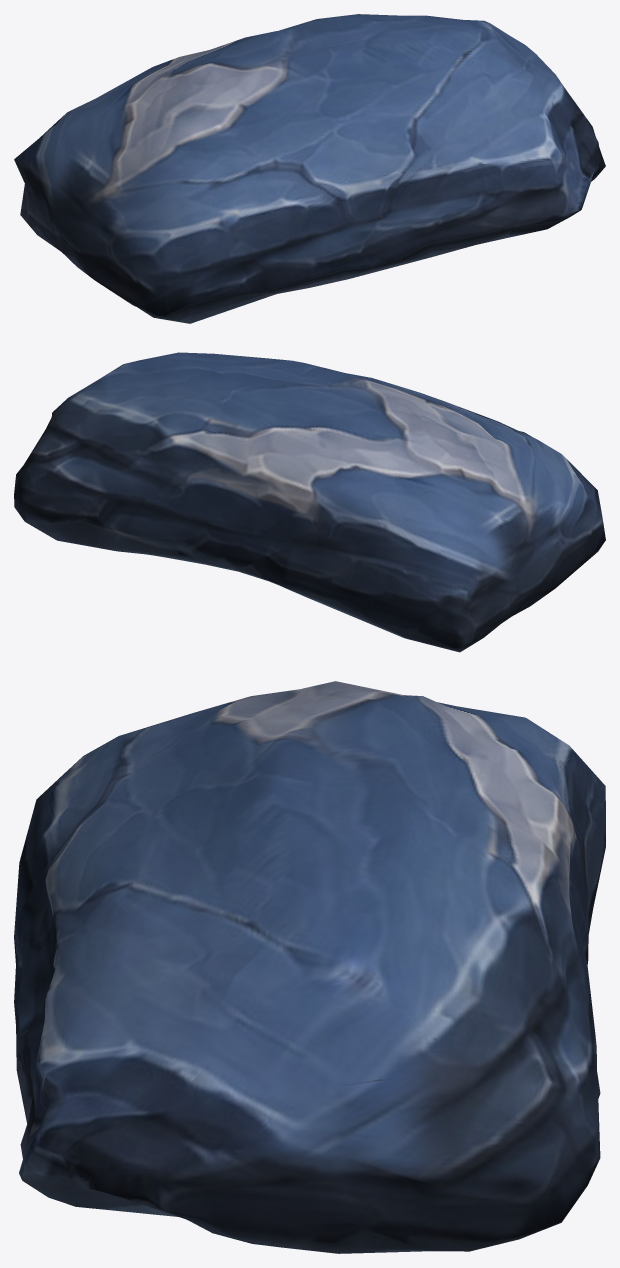
File: slate.glb
3 views of the same model, one above another, from view 1: azimuth 30°, elevation 25°; view 2: azimuth 150°, elevation 25°; view 3: azimuth 270°, elevation 25° (orthographic). The views are drawn at different scales.
Parts seen in each view (by area): view 1: slate; view 2: slate; view 3: slate.
Part boxes in pixels (x1,y1,x2,y2): slate: [14, 14, 605, 323]; slate: [14, 352, 605, 652]; slate: [14, 681, 605, 1253].
Bounding box in the file's own units: 1 × 0.3791 × 0.6113.
1 material, 1 textured.
